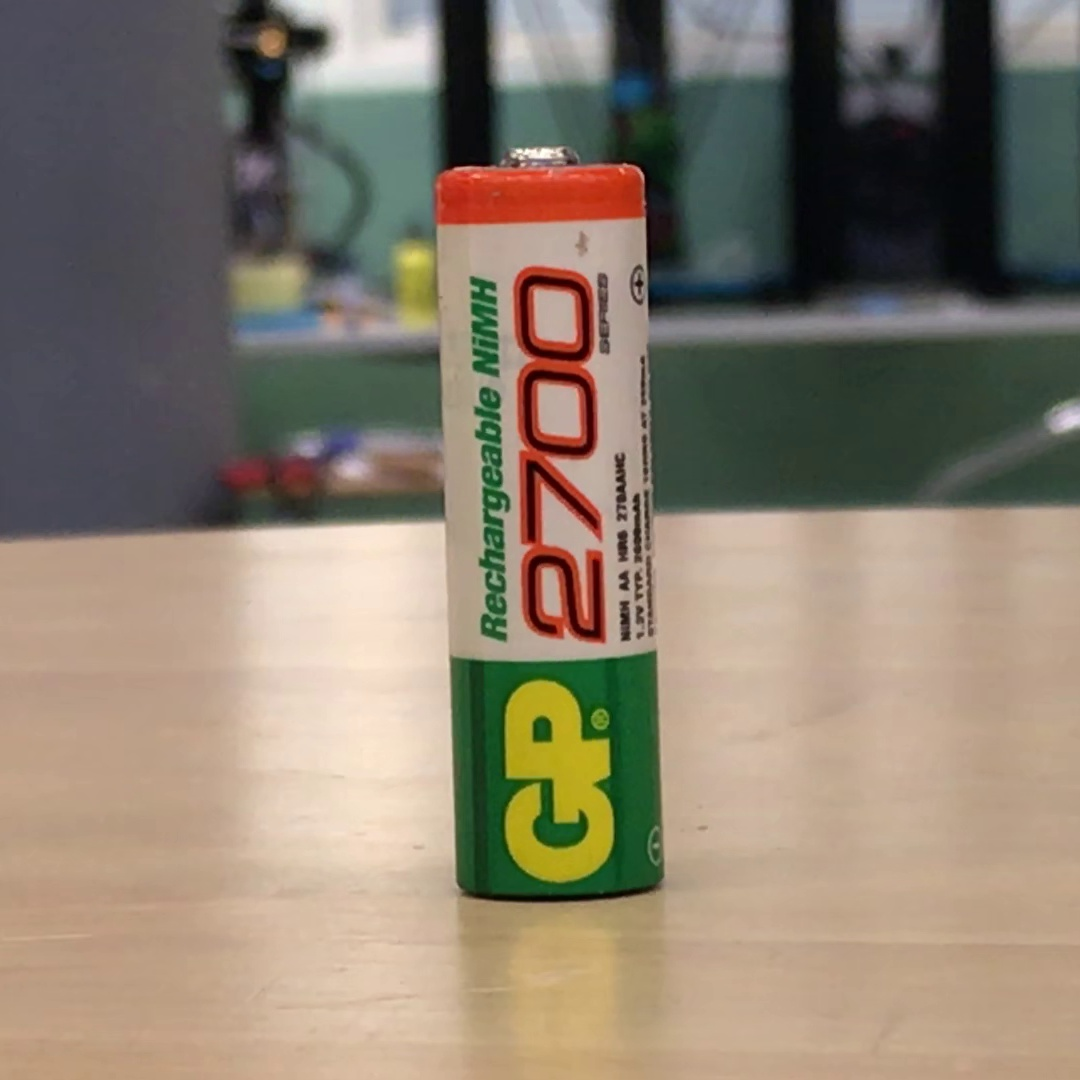keyword: (460, 266, 508, 387)
